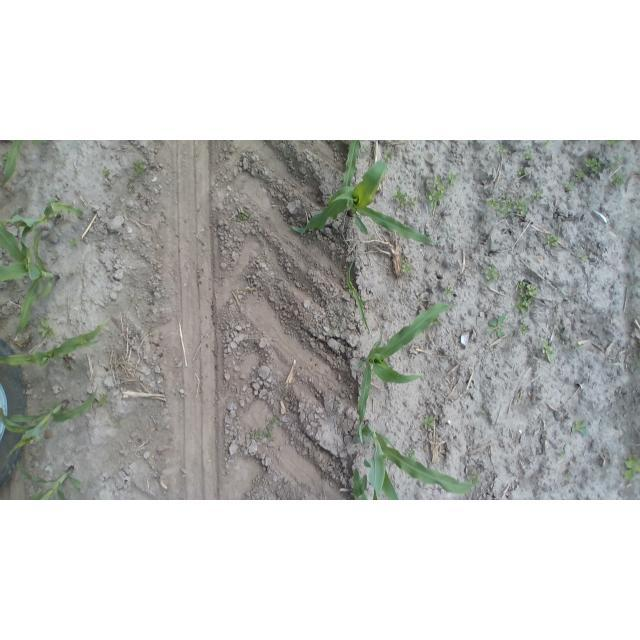Maize: (357, 302, 451, 443), (288, 159, 437, 246), (359, 421, 473, 494), (1, 385, 108, 457), (0, 224, 62, 330), (0, 320, 116, 372), (13, 458, 84, 499), (4, 202, 84, 229), (344, 256, 371, 333), (0, 140, 26, 188), (341, 140, 360, 186), (350, 466, 369, 500)
Weeds: (428, 173, 457, 205), (517, 279, 538, 314), (249, 416, 279, 440), (499, 198, 525, 217), (393, 188, 416, 207), (486, 315, 505, 337), (623, 456, 640, 480), (584, 157, 602, 178), (481, 263, 499, 281), (569, 419, 588, 436), (540, 340, 556, 360), (132, 160, 149, 177), (39, 320, 54, 337), (545, 233, 559, 248), (402, 258, 415, 274), (423, 414, 435, 430), (612, 174, 626, 187), (100, 165, 112, 180), (443, 284, 453, 300), (238, 210, 251, 222), (494, 144, 509, 154), (485, 194, 497, 206), (531, 189, 542, 200), (519, 322, 527, 335), (68, 238, 79, 247), (613, 156, 626, 163), (523, 151, 533, 160), (563, 182, 573, 191), (532, 140, 550, 145), (574, 172, 585, 180), (606, 163, 618, 169), (605, 141, 619, 146), (517, 168, 525, 176), (113, 419, 121, 426), (384, 151, 392, 158), (51, 247, 57, 256), (128, 300, 132, 305)
